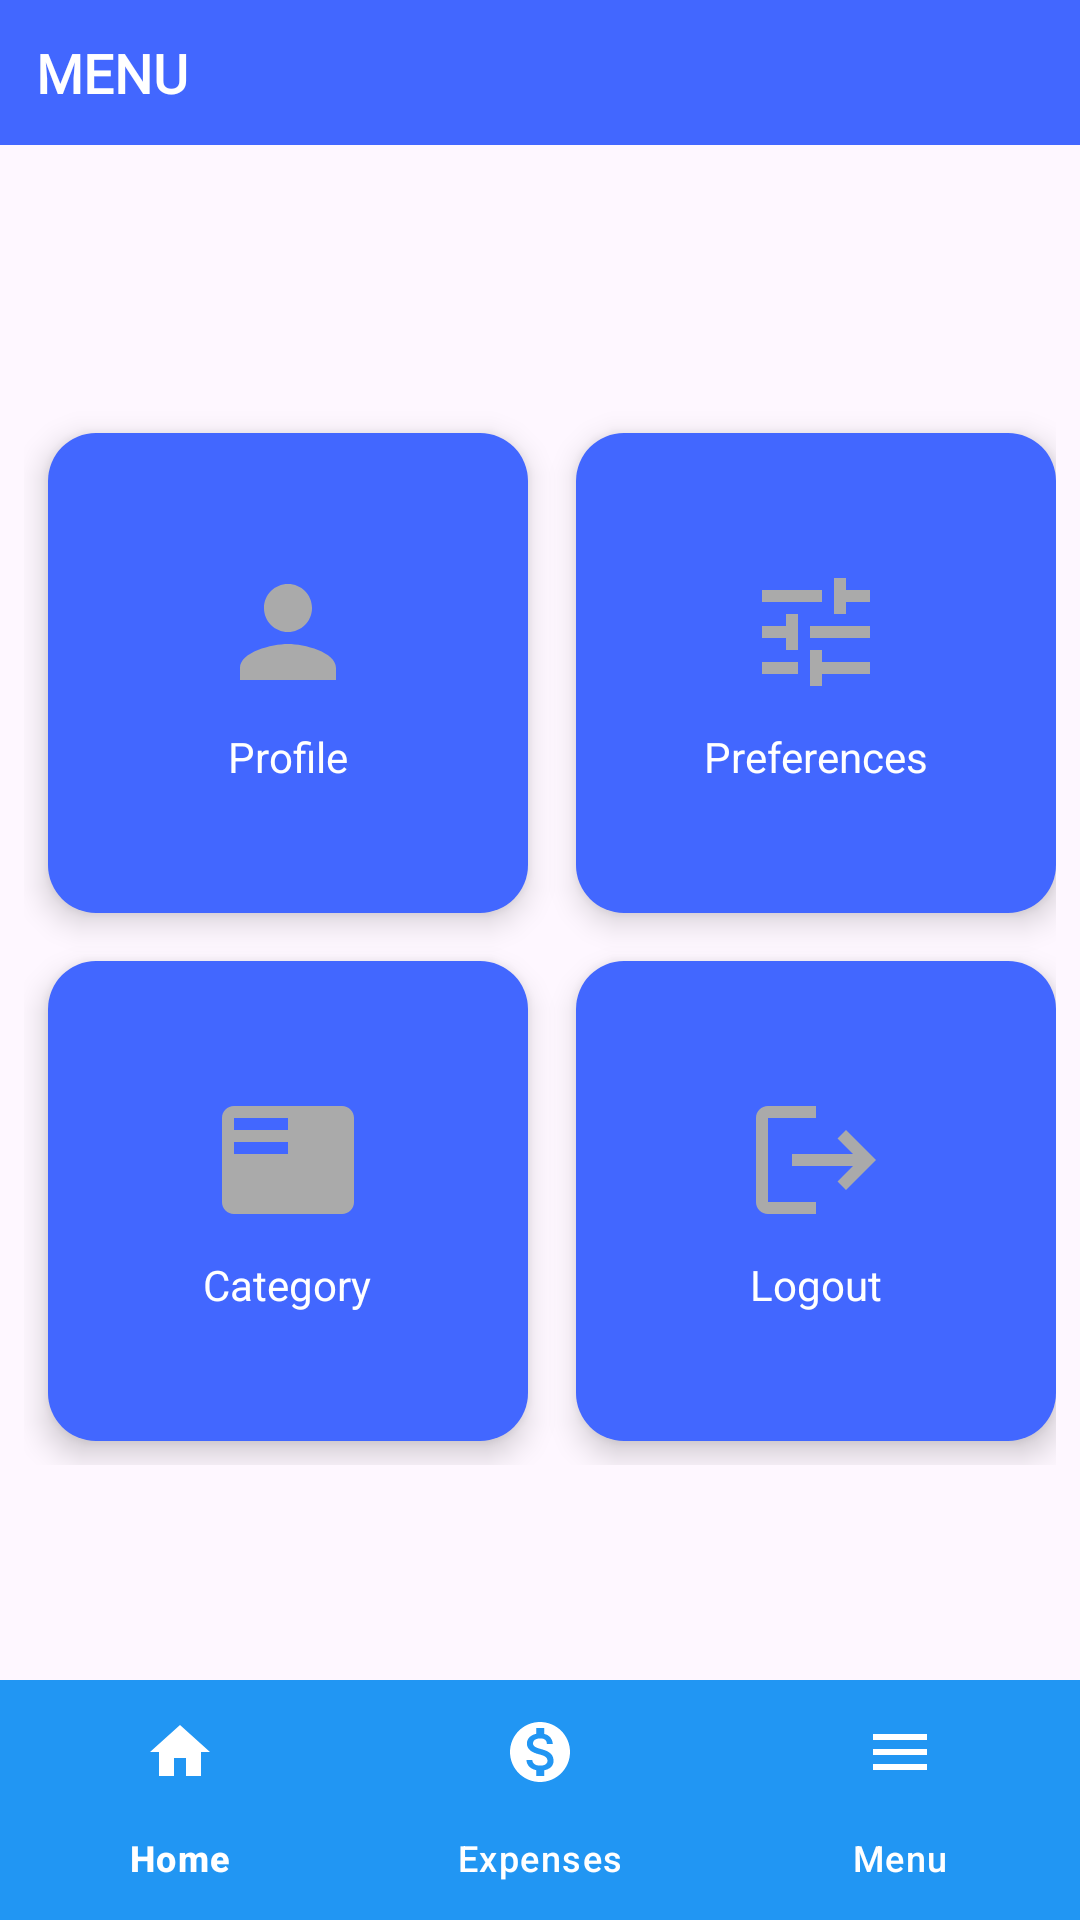

Icon click points for this 1080px x 1920px phone screenshot, format point (x, y):
tune: point (816, 632)
user: point (288, 632)
